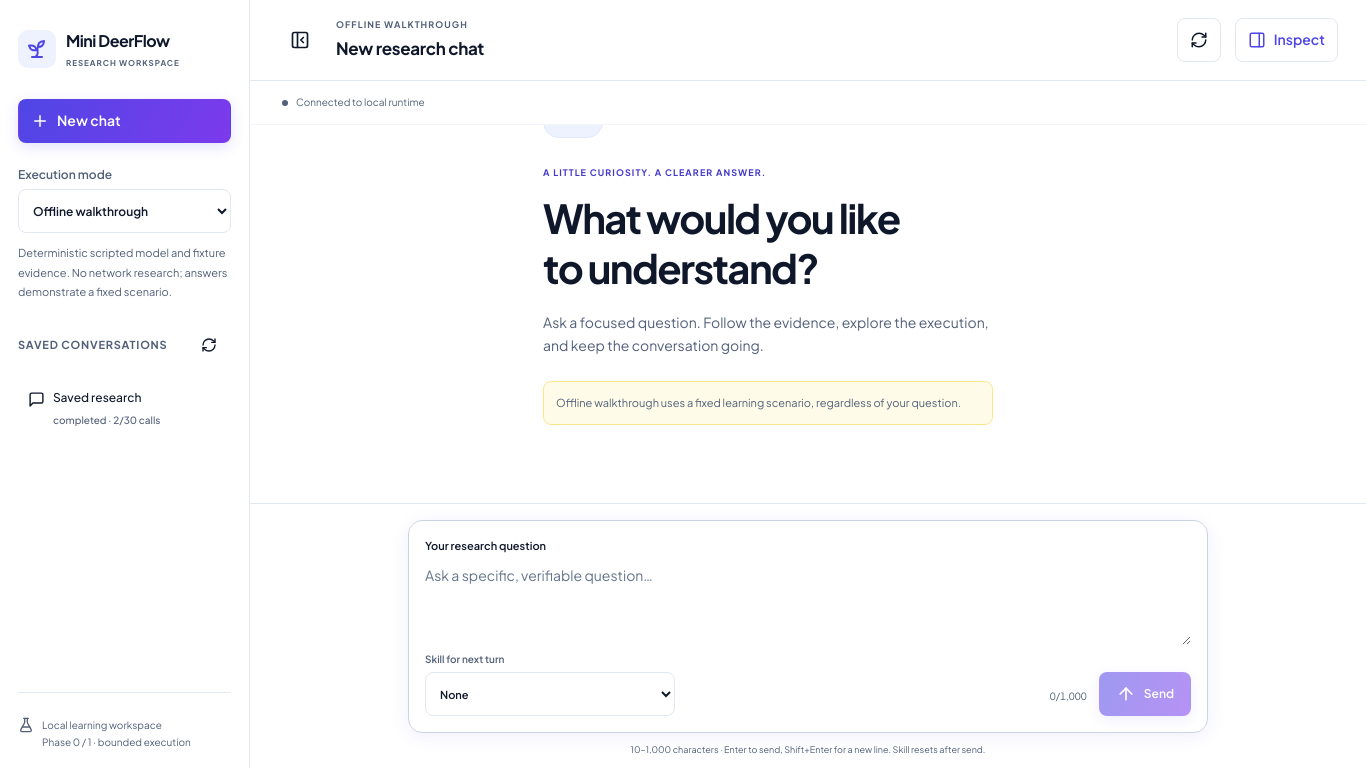
research workspace › reopens server history and isolates mode navigation and polling
(page scrolled)
Click the button "Saved research completed · 2/30 calls".
click(124, 408)  # box [18,375,231,441]
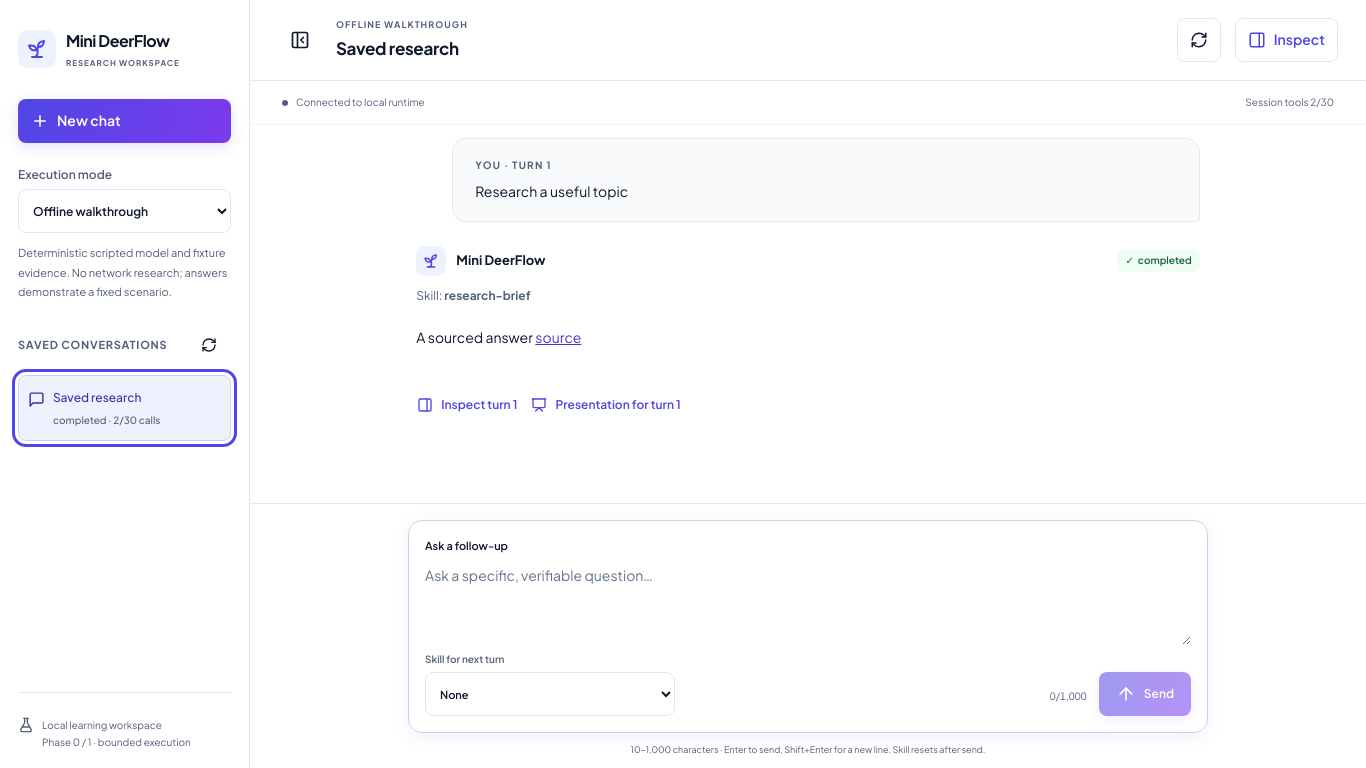
expect the text "A sourced answer source" is shown: met, box [416,328,581,346]
Select "Live" in the dropdown labelled "Execution mode" at (124, 211), box [18,189,231,233]
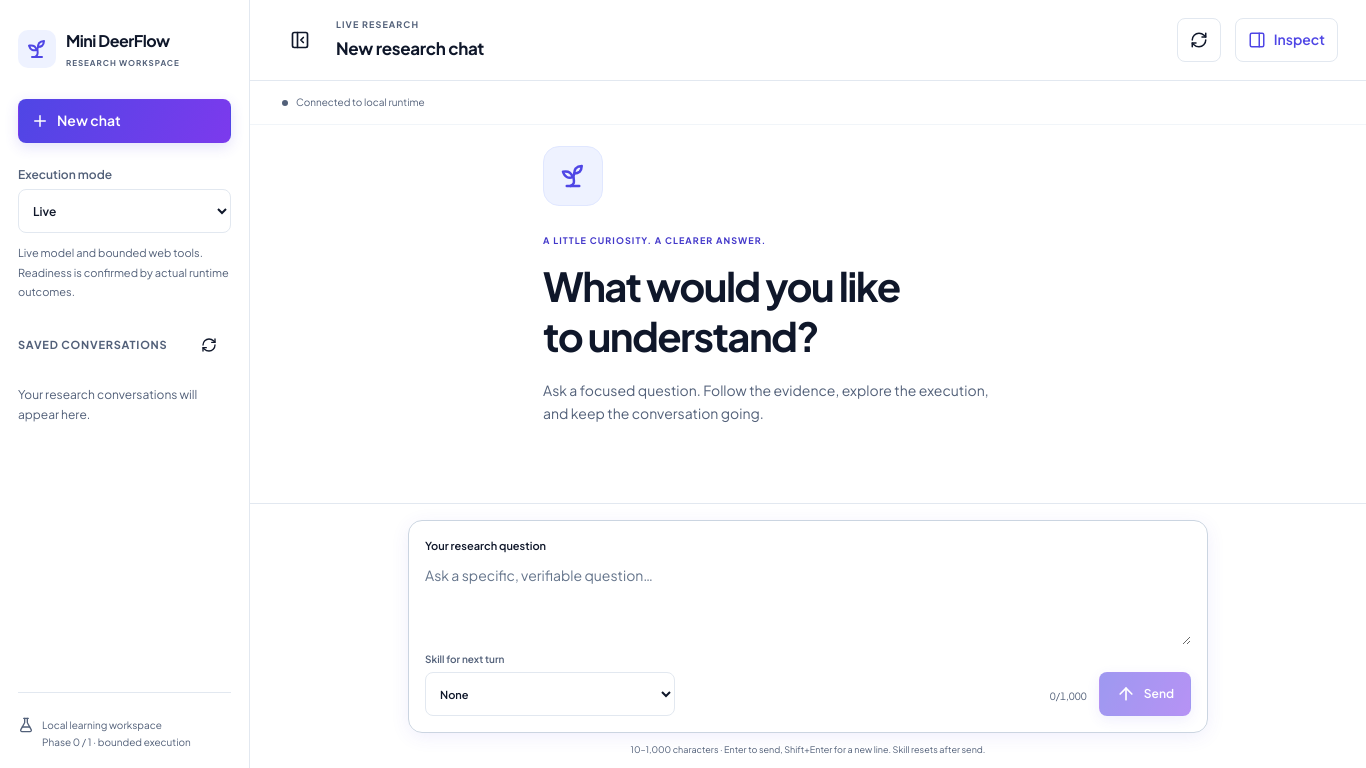
expect the text "LIVE RESEARCH" is shown: met, box [336,19,419,30]
expect the text "A sourced answer" is gone: met
